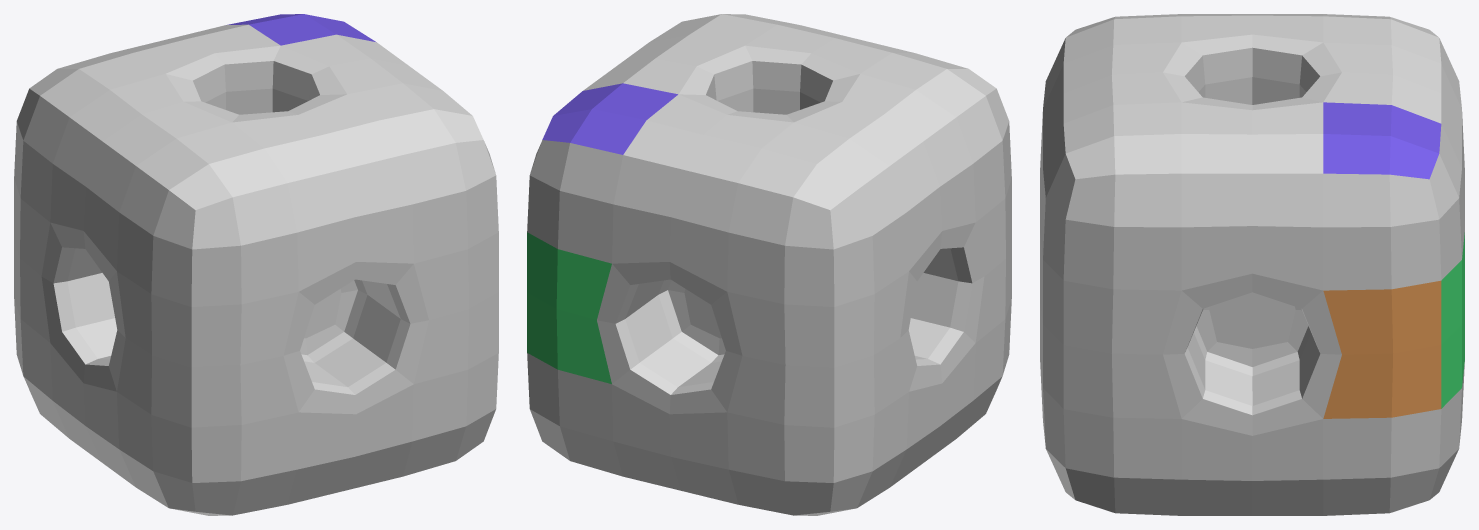
3 renders of one model, left to right at view 1: azimuth 30°, elevation 25°; view 2: azimuth 150°, elevation 25°; view 3: azimuth 270°, elevation 25°, orthographic. The views are drawn at different scales.
Parts seen in each view (by area): view 1: Base1.001; view 2: Base1.001; view 3: Base1.001.
Boxes of the visible parts, x1,y1,x2,y2 form: Base1.001: (14,14,498,515); Base1.001: (527,14,1011,515); Base1.001: (1040,14,1464,515).
Size of the model in its own units: 2 by 2 by 2.
